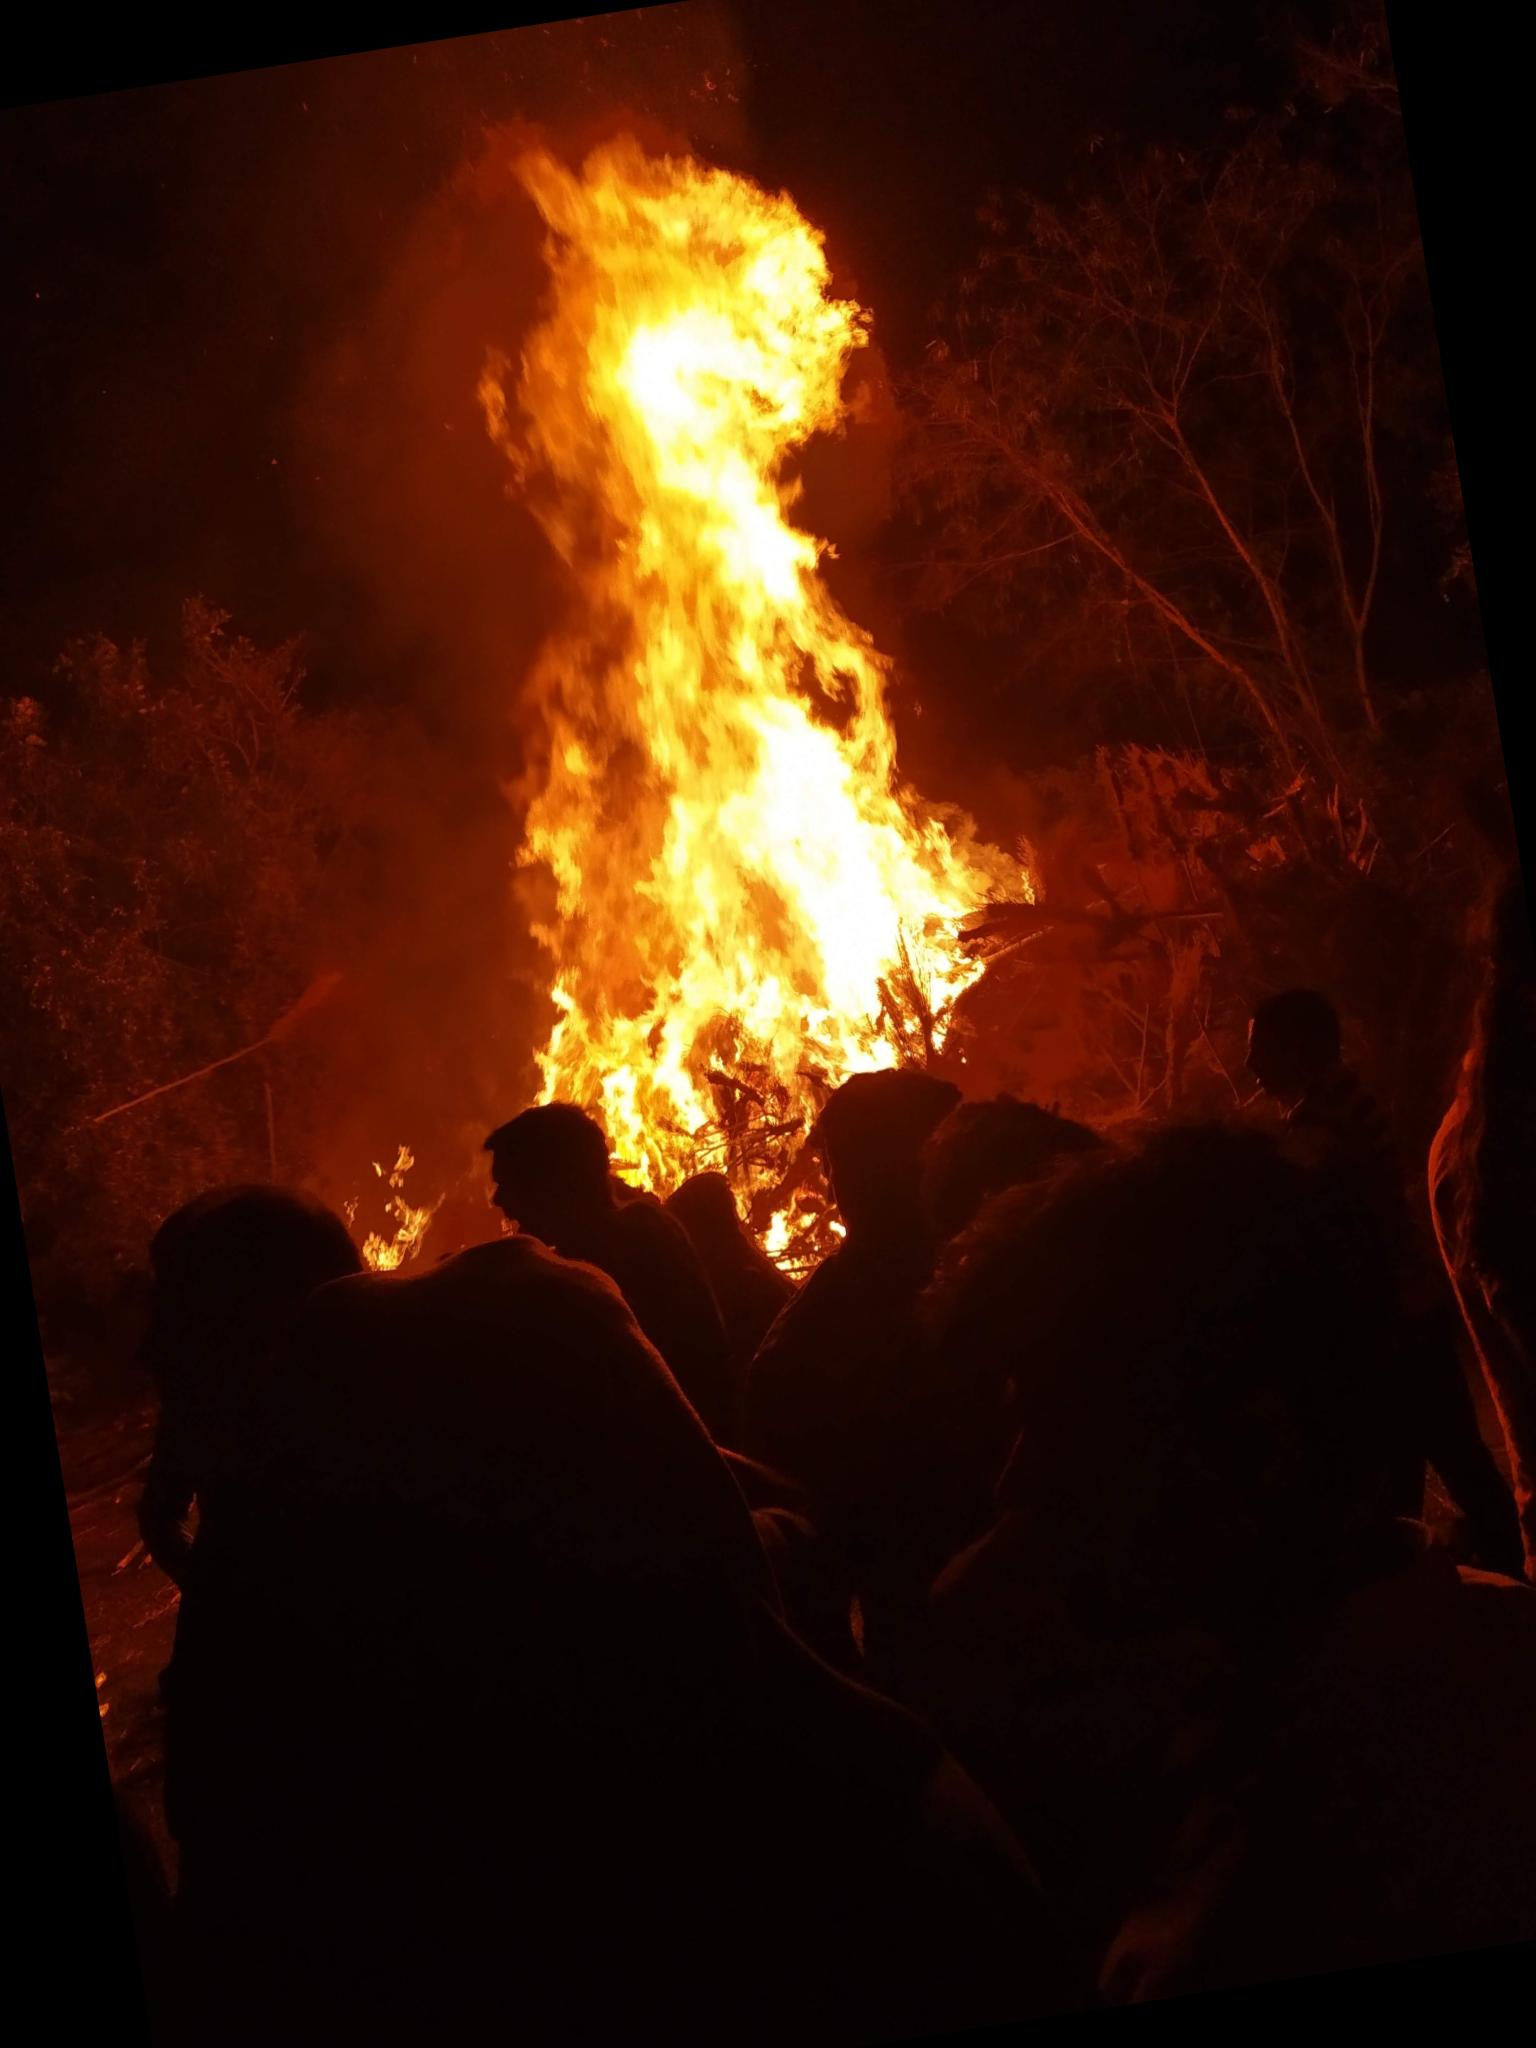Fire: (371, 65, 1096, 1317), (331, 1130, 453, 1284)
